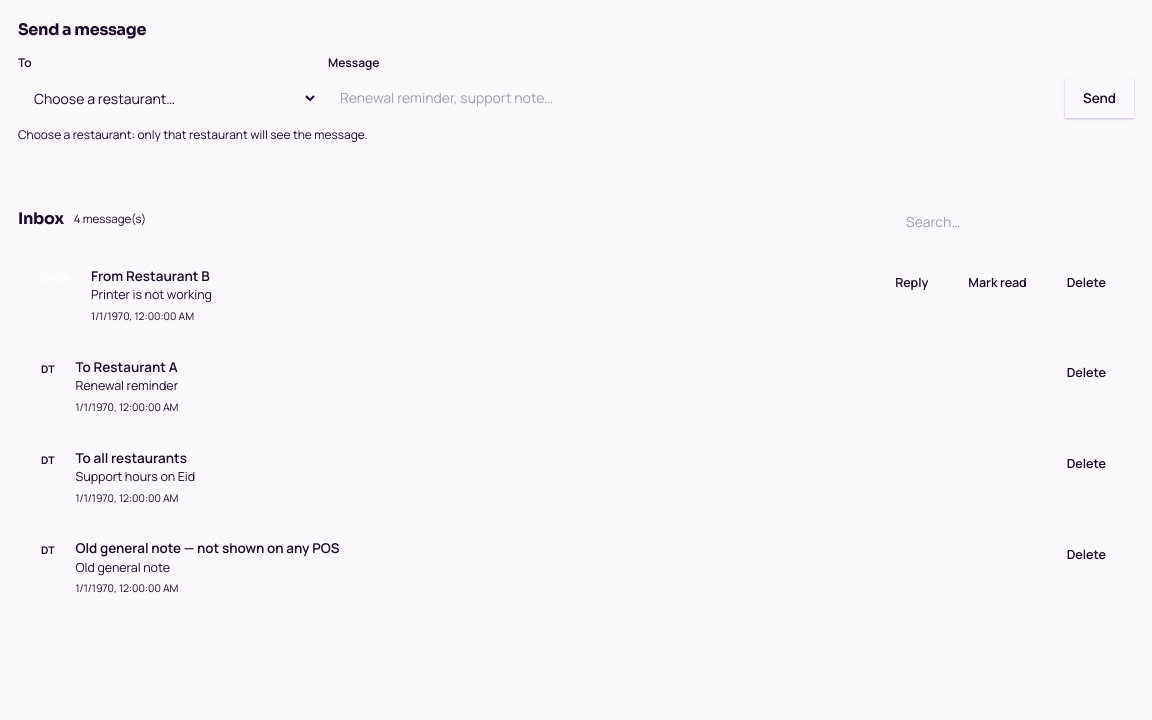
Test: Super Admin → Support › the inbox says who each message went to or came from, and Reply goes back to that restaurant
The width and height of the screenshot is (1152, 720).
Later steps or results of the test are not shown.
Click the button "Reply". click: [912, 283]
box: left=881, top=266, right=942, bottom=300
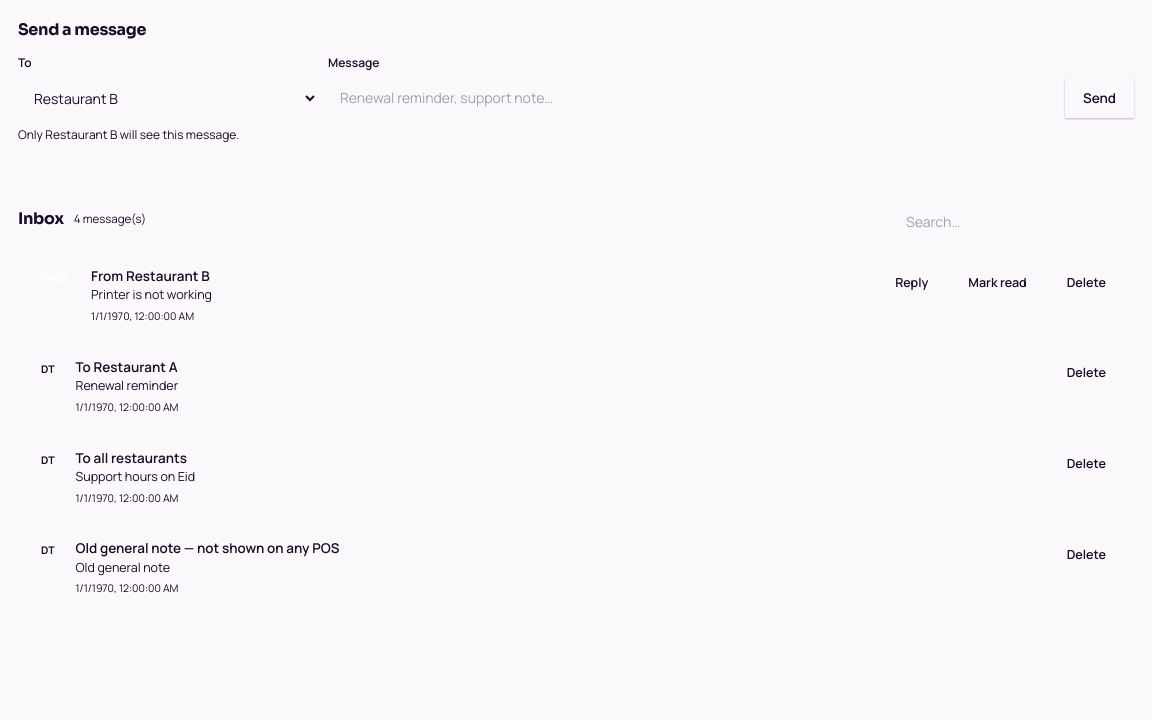
Check: the dropdown labelled "To" shows "Restaurant B", box left=18, top=78, right=318, bottom=118
